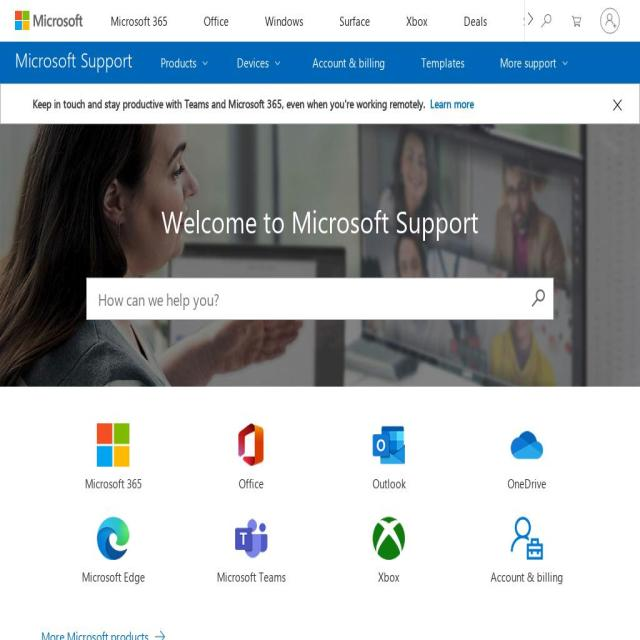button: (41, 615, 599, 640), (190, 424, 312, 494), (190, 516, 312, 586), (53, 424, 174, 494), (466, 424, 587, 494), (53, 516, 174, 586), (466, 516, 587, 586), (329, 424, 449, 494), (329, 516, 449, 586), (5, 42, 144, 82), (296, 42, 402, 82), (484, 42, 580, 82), (94, 1, 184, 41), (144, 42, 220, 82), (405, 42, 481, 82), (248, 1, 320, 41), (221, 42, 293, 82), (506, 1, 573, 41), (322, 1, 387, 41), (576, 1, 638, 41), (187, 1, 246, 41), (447, 1, 504, 41), (390, 1, 444, 41), (572, 2, 596, 40), (429, 95, 474, 112)
field: (86, 278, 554, 320)
heading: (32, 191, 608, 251)
image: (372, 423, 406, 467), (372, 517, 406, 560), (97, 423, 130, 467), (235, 423, 268, 467), (510, 423, 543, 467), (97, 517, 130, 560), (235, 517, 268, 560), (510, 517, 543, 560)
text: (32, 95, 430, 112), (15, 47, 133, 71), (490, 568, 563, 585), (216, 568, 286, 585), (81, 568, 145, 585), (84, 475, 142, 492), (507, 475, 546, 492), (372, 475, 406, 492), (238, 475, 264, 492), (378, 568, 400, 585)
